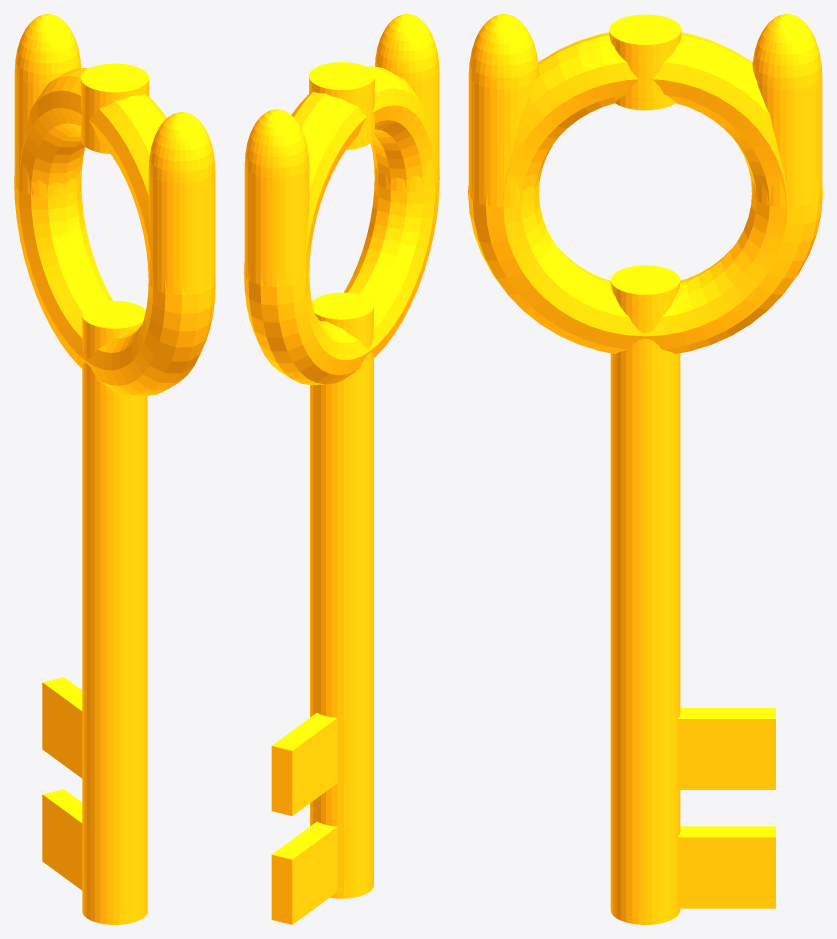
The model's file is VaultKey.fbx.
The picture shows the model from 3 angles, left to right: view 1: azimuth 30°, elevation 25°; view 2: azimuth 150°, elevation 25°; view 3: azimuth 270°, elevation 25°; orthographic projection. The views are drawn at different scales.
Parts seen in each view (by area): view 1: Cylinder; view 2: Cylinder; view 3: Cylinder.
Boxes of the visible parts, x1,y1,x2,y2 form: Cylinder: (14, 14, 215, 924); Cylinder: (244, 14, 439, 924); Cylinder: (468, 14, 822, 924).
Size of the model in its own units: 55.24 by 756 by 272.
